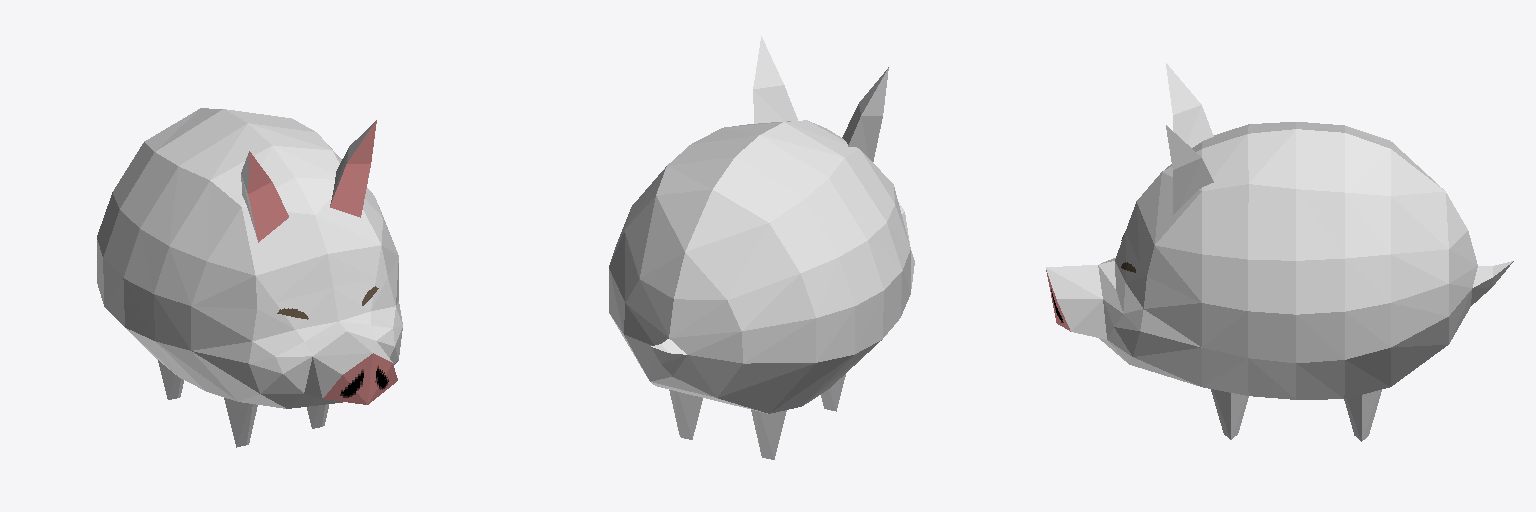
The picture shows the model from 3 angles: view 1: azimuth 30°, elevation 25°; view 2: azimuth 150°, elevation 25°; view 3: azimuth 270°, elevation 25°; orthographic projection.
Parts seen in each view (by area): view 1: polygon0, polygon1; view 2: polygon0; view 3: polygon0.
Boxes of the visible parts, box(x1,y1,x2,y2) form: polygon0: box(97, 108, 402, 447); polygon1: box(248, 120, 397, 404); polygon0: box(609, 36, 914, 459); polygon0: box(1046, 63, 1513, 441).
Size of the model in its own units: 4.94 by 6.18 by 8.06.
2 materials, 1 textured.